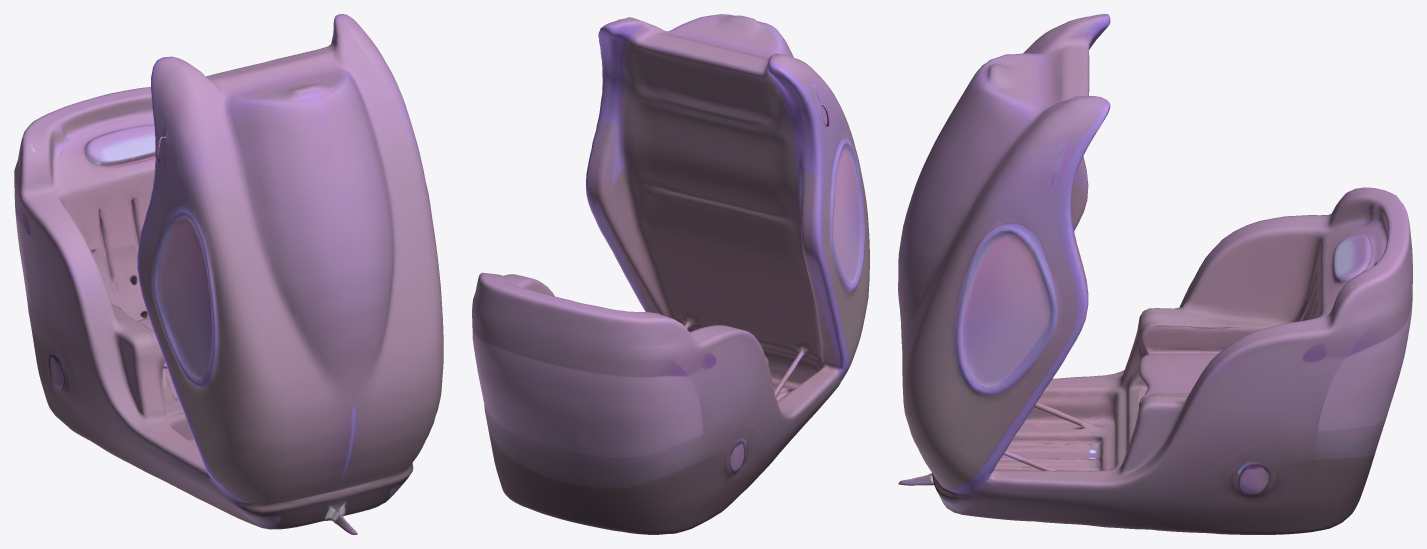
File: Total-Wellness-Capsule.glb
3 views of the same model, side by side, from view 1: azimuth 30°, elevation 25°; view 2: azimuth 150°, elevation 25°; view 3: azimuth 270°, elevation 25° (orthographic). The views are drawn at different scales.
Parts seen in each view (by area): view 1: model; view 2: model; view 3: model.
Part boxes in pixels (x1,y1,x2,y2): model: [14, 14, 443, 534]; model: [472, 14, 869, 534]; model: [898, 14, 1412, 534].
Size of the model in its own units: 1.08 by 1.74 by 1.9.
Materials: 1 (1 with a texture image).
